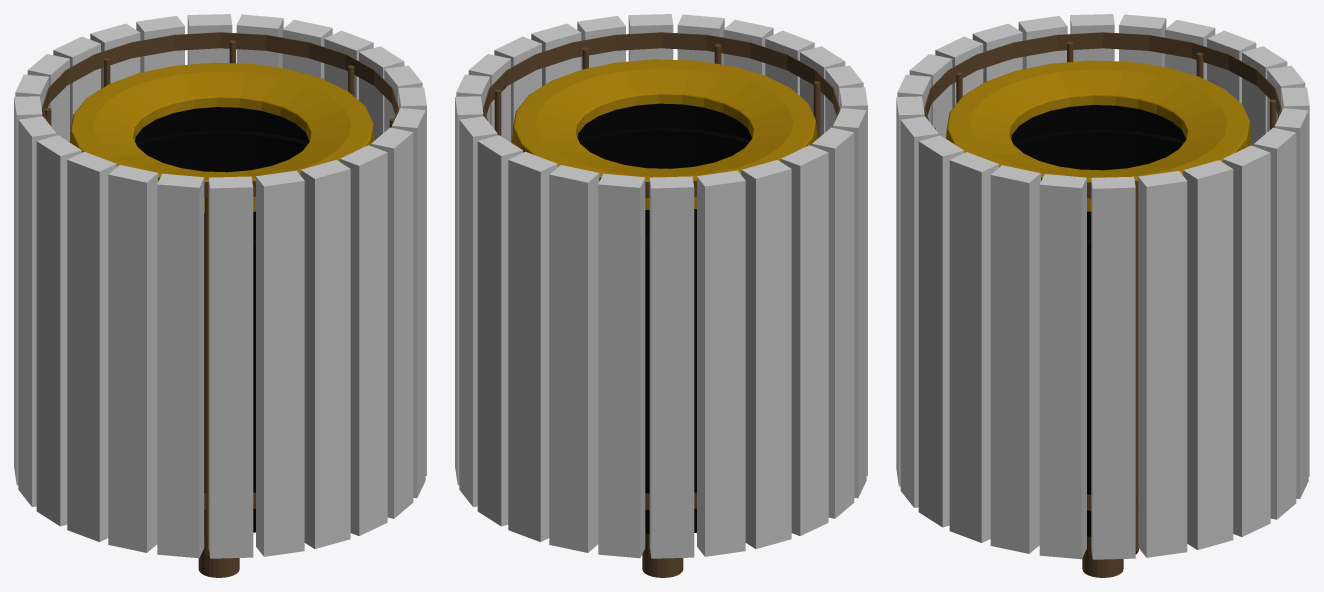
3 views of the same model, side by side, from view 1: azimuth 30°, elevation 25°; view 2: azimuth 150°, elevation 25°; view 3: azimuth 270°, elevation 25° (orthographic).
Parts seen in each view (by area): view 1: mesh94.001_mesh94-geometry, mesh115.001_mesh115-geometry, mesh135.001_mesh135-geometry, mesh124.001_mesh124-geometry, mesh133.001_mesh133-geometry, mesh117.001_mesh117-geometry, mesh127.001_mesh127-geometry, mesh107.001_mesh107-geometry, mesh141.001_mesh141-geometry, mesh137.001_mesh137-geometry, mesh73.001_mesh73-geometry, mesh123.001_mesh123-geometry (+17 smaller); view 2: mesh94.001_mesh94-geometry, mesh129.001_mesh129-geometry, mesh122.001_mesh122-geometry, mesh121.001_mesh121-geometry, mesh134.001_mesh134-geometry, mesh131.001_mesh131-geometry, mesh128.001_mesh128-geometry, mesh123.001_mesh123-geometry, mesh130.001_mesh130-geometry, mesh73.001_mesh73-geometry, mesh141.001_mesh141-geometry, mesh140.001_mesh140-geometry (+16 smaller); view 3: mesh94.001_mesh94-geometry, mesh109.001_mesh109-geometry, mesh139.001_mesh139-geometry, mesh138.001_mesh138-geometry, mesh126.001_mesh126-geometry, mesh136.001_mesh136-geometry, mesh132.001_mesh132-geometry, mesh140.001_mesh140-geometry, mesh137.001_mesh137-geometry, mesh130.001_mesh130-geometry, mesh73.001_mesh73-geometry, mesh107.001_mesh107-geometry (+17 smaller).
Part boxes in pixels (left/top/right/bottom): mesh94.001_mesh94-geometry: left=69, top=62, right=374, bottom=213; mesh115.001_mesh115-geometry: left=108, top=165, right=158, bottom=552; mesh135.001_mesh135-geometry: left=256, top=170, right=304, bottom=556; mesh124.001_mesh124-geometry: left=157, top=173, right=204, bottom=558; mesh133.001_mesh133-geometry: left=300, top=160, right=350, bottom=548; mesh117.001_mesh117-geometry: left=208, top=176, right=253, bottom=558; mesh127.001_mesh127-geometry: left=67, top=151, right=116, bottom=541; mesh107.001_mesh107-geometry: left=340, top=145, right=387, bottom=535; mesh141.001_mesh141-geometry: left=36, top=135, right=81, bottom=526; mesh137.001_mesh137-geometry: left=371, top=127, right=413, bottom=518; mesh73.001_mesh73-geometry: left=135, top=107, right=309, bottom=535; mesh123.001_mesh123-geometry: left=18, top=116, right=56, bottom=506; mesh94.001_mesh94-geometry: left=512, top=59, right=817, bottom=209; mesh129.001_mesh129-geometry: left=549, top=165, right=599, bottom=552; mesh122.001_mesh122-geometry: left=697, top=170, right=745, bottom=556; mesh121.001_mesh121-geometry: left=598, top=173, right=645, bottom=558; mesh134.001_mesh134-geometry: left=741, top=160, right=791, bottom=548; mesh131.001_mesh131-geometry: left=649, top=176, right=694, bottom=558; mesh128.001_mesh128-geometry: left=508, top=151, right=557, bottom=541; mesh123.001_mesh123-geometry: left=781, top=145, right=828, bottom=535; mesh130.001_mesh130-geometry: left=477, top=135, right=522, bottom=526; mesh73.001_mesh73-geometry: left=577, top=103, right=751, bottom=533; mesh141.001_mesh141-geometry: left=812, top=127, right=854, bottom=518; mesh140.001_mesh140-geometry: left=459, top=116, right=497, bottom=506; mesh94.001_mesh94-geometry: left=946, top=60, right=1251, bottom=211; mesh109.001_mesh109-geometry: left=990, top=165, right=1040, bottom=553; mesh139.001_mesh139-geometry: left=1138, top=171, right=1187, bottom=557; mesh138.001_mesh138-geometry: left=1039, top=174, right=1086, bottom=559; mesh126.001_mesh126-geometry: left=1183, top=160, right=1233, bottom=549; mesh136.001_mesh136-geometry: left=1091, top=176, right=1135, bottom=559; mesh132.001_mesh132-geometry: left=949, top=152, right=998, bottom=542; mesh140.001_mesh140-geometry: left=1222, top=145, right=1270, bottom=536; mesh137.001_mesh137-geometry: left=918, top=135, right=963, bottom=527; mesh130.001_mesh130-geometry: left=1253, top=127, right=1296, bottom=519; mesh73.001_mesh73-geometry: left=1011, top=105, right=1185, bottom=536; mesh107.001_mesh107-geometry: left=900, top=116, right=938, bottom=507.
Size of the model in its own units: 0.5297 by 0.6624 by 0.5297.
